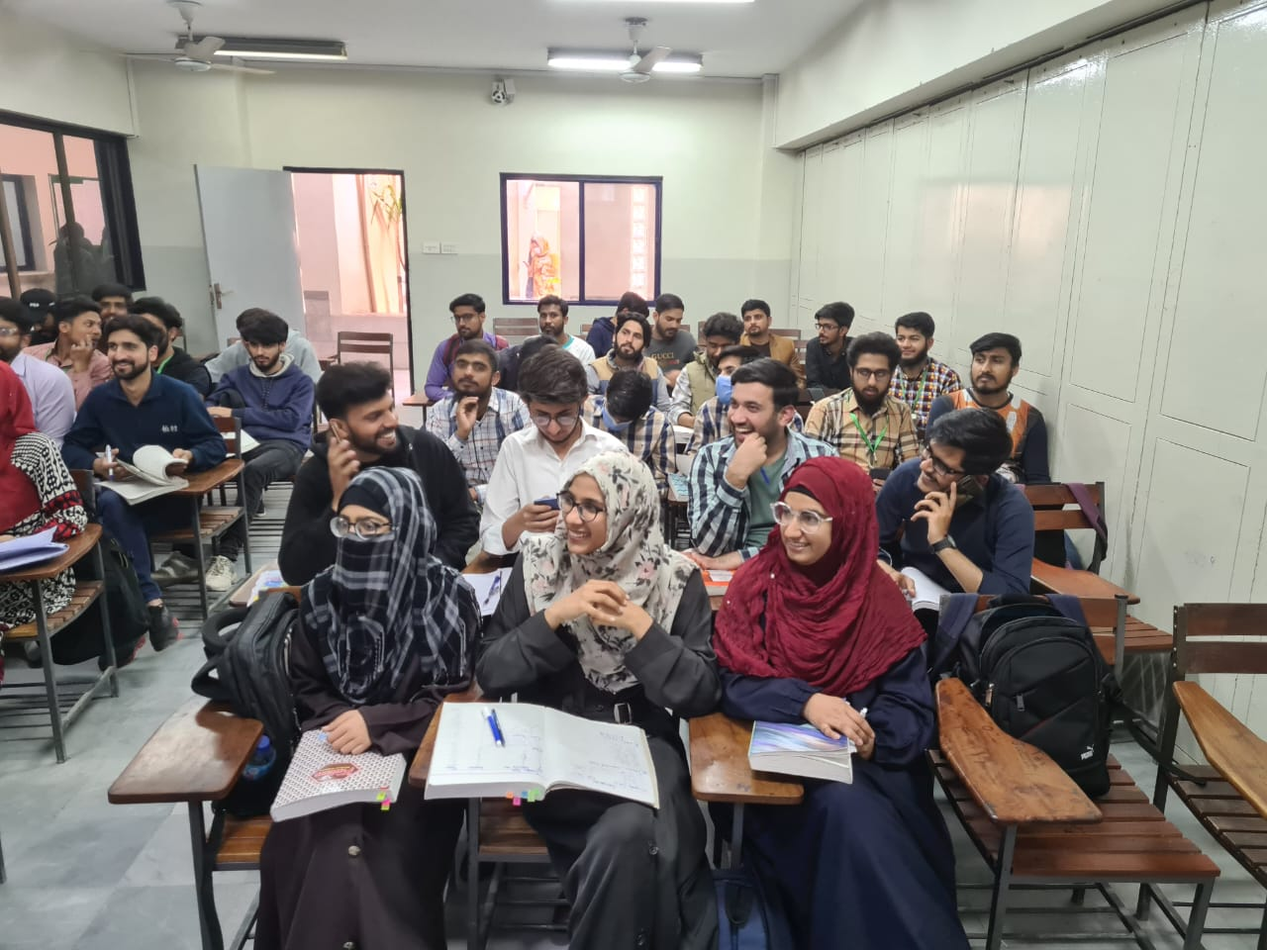non-cheating: (329, 469, 438, 585), (518, 344, 590, 443), (849, 331, 898, 407), (968, 331, 1022, 396), (240, 312, 288, 372), (453, 339, 500, 397), (895, 310, 936, 364), (612, 313, 651, 361), (448, 293, 487, 339), (653, 293, 685, 341), (536, 295, 570, 336), (741, 298, 772, 336)
phone: (317, 418, 361, 469), (940, 475, 989, 512), (520, 494, 561, 535)
